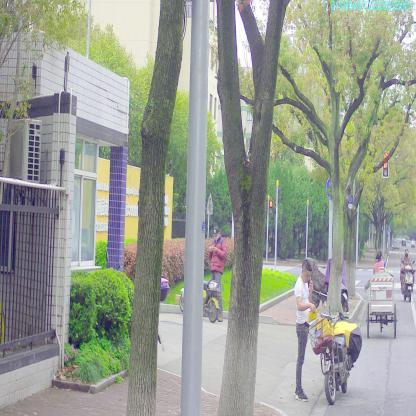traffic-light: (383, 151, 389, 178)
